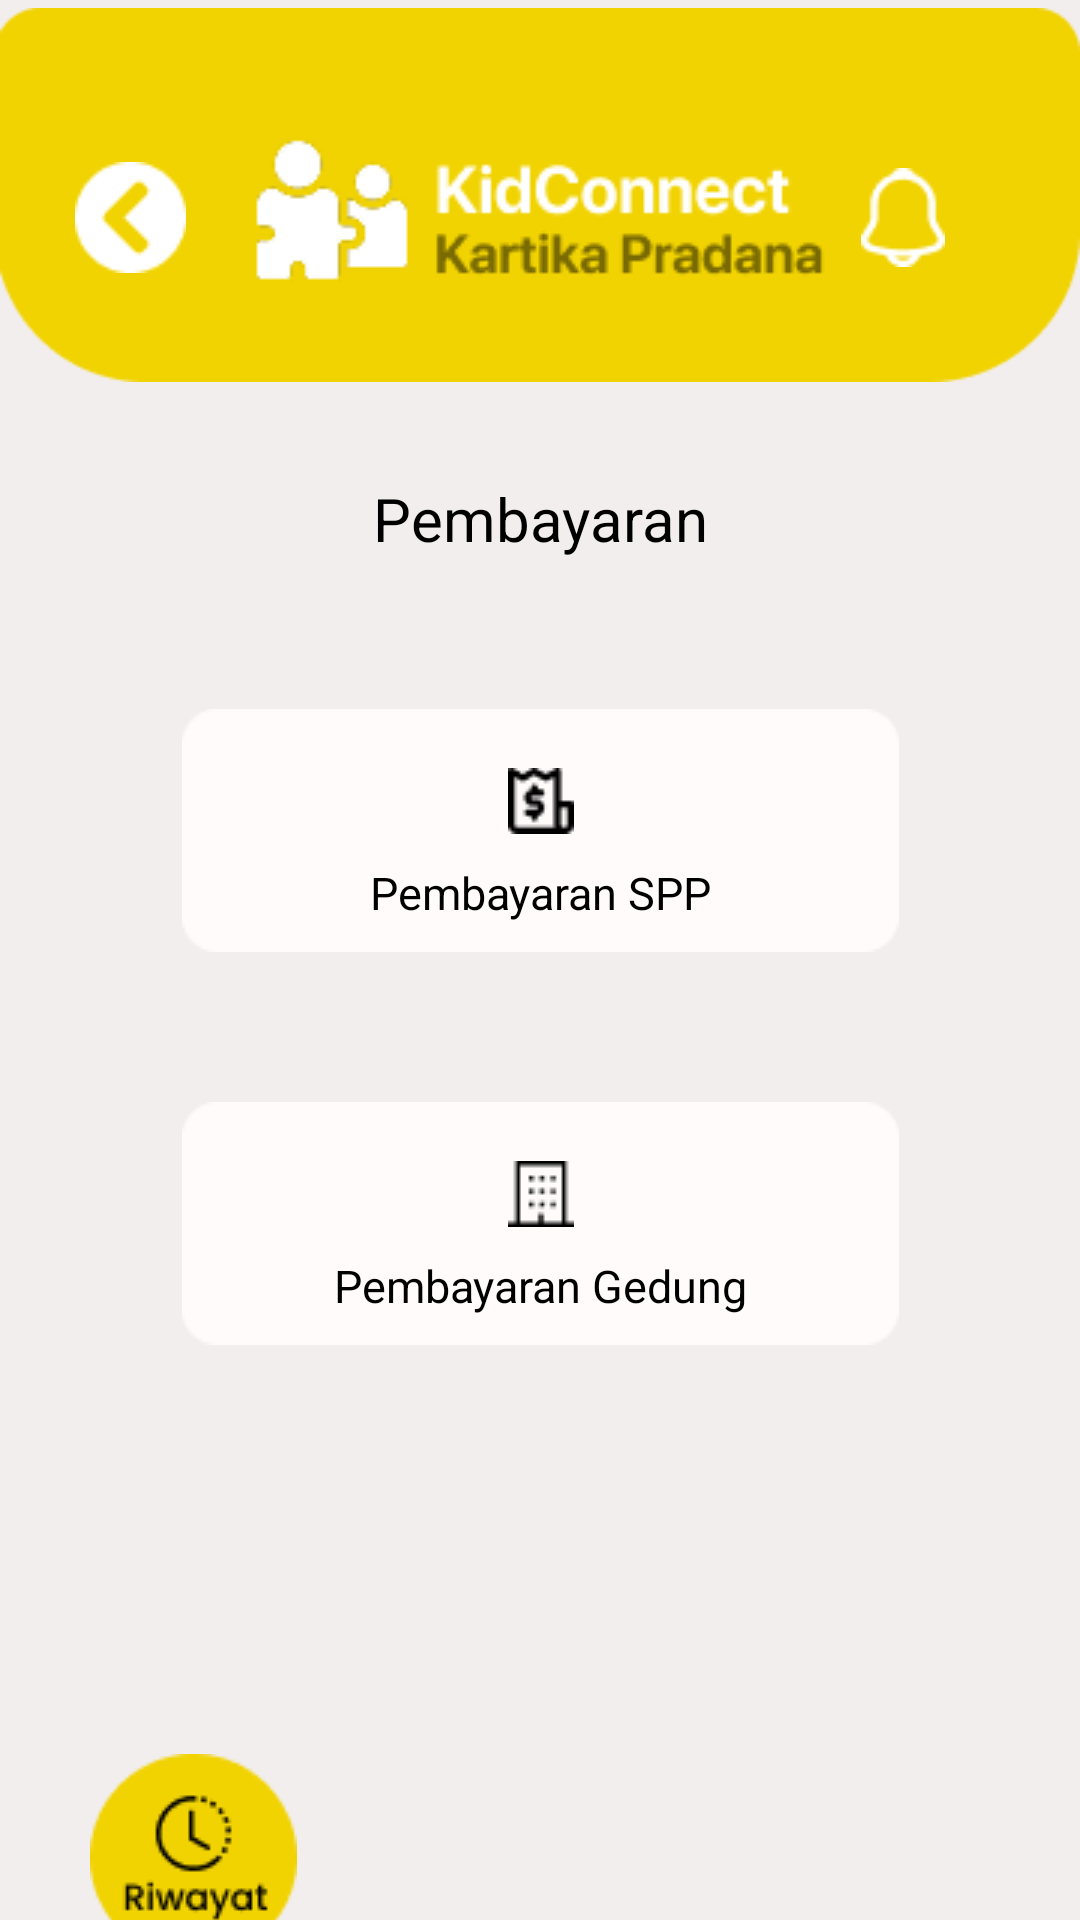

Screen size 1080x1920. Icon name, then its box in pixels as box=[x1, y1, x2, y2]:
back: box=[75, 162, 186, 273]
bill: box=[508, 768, 574, 834]
notif: box=[861, 168, 945, 267]
